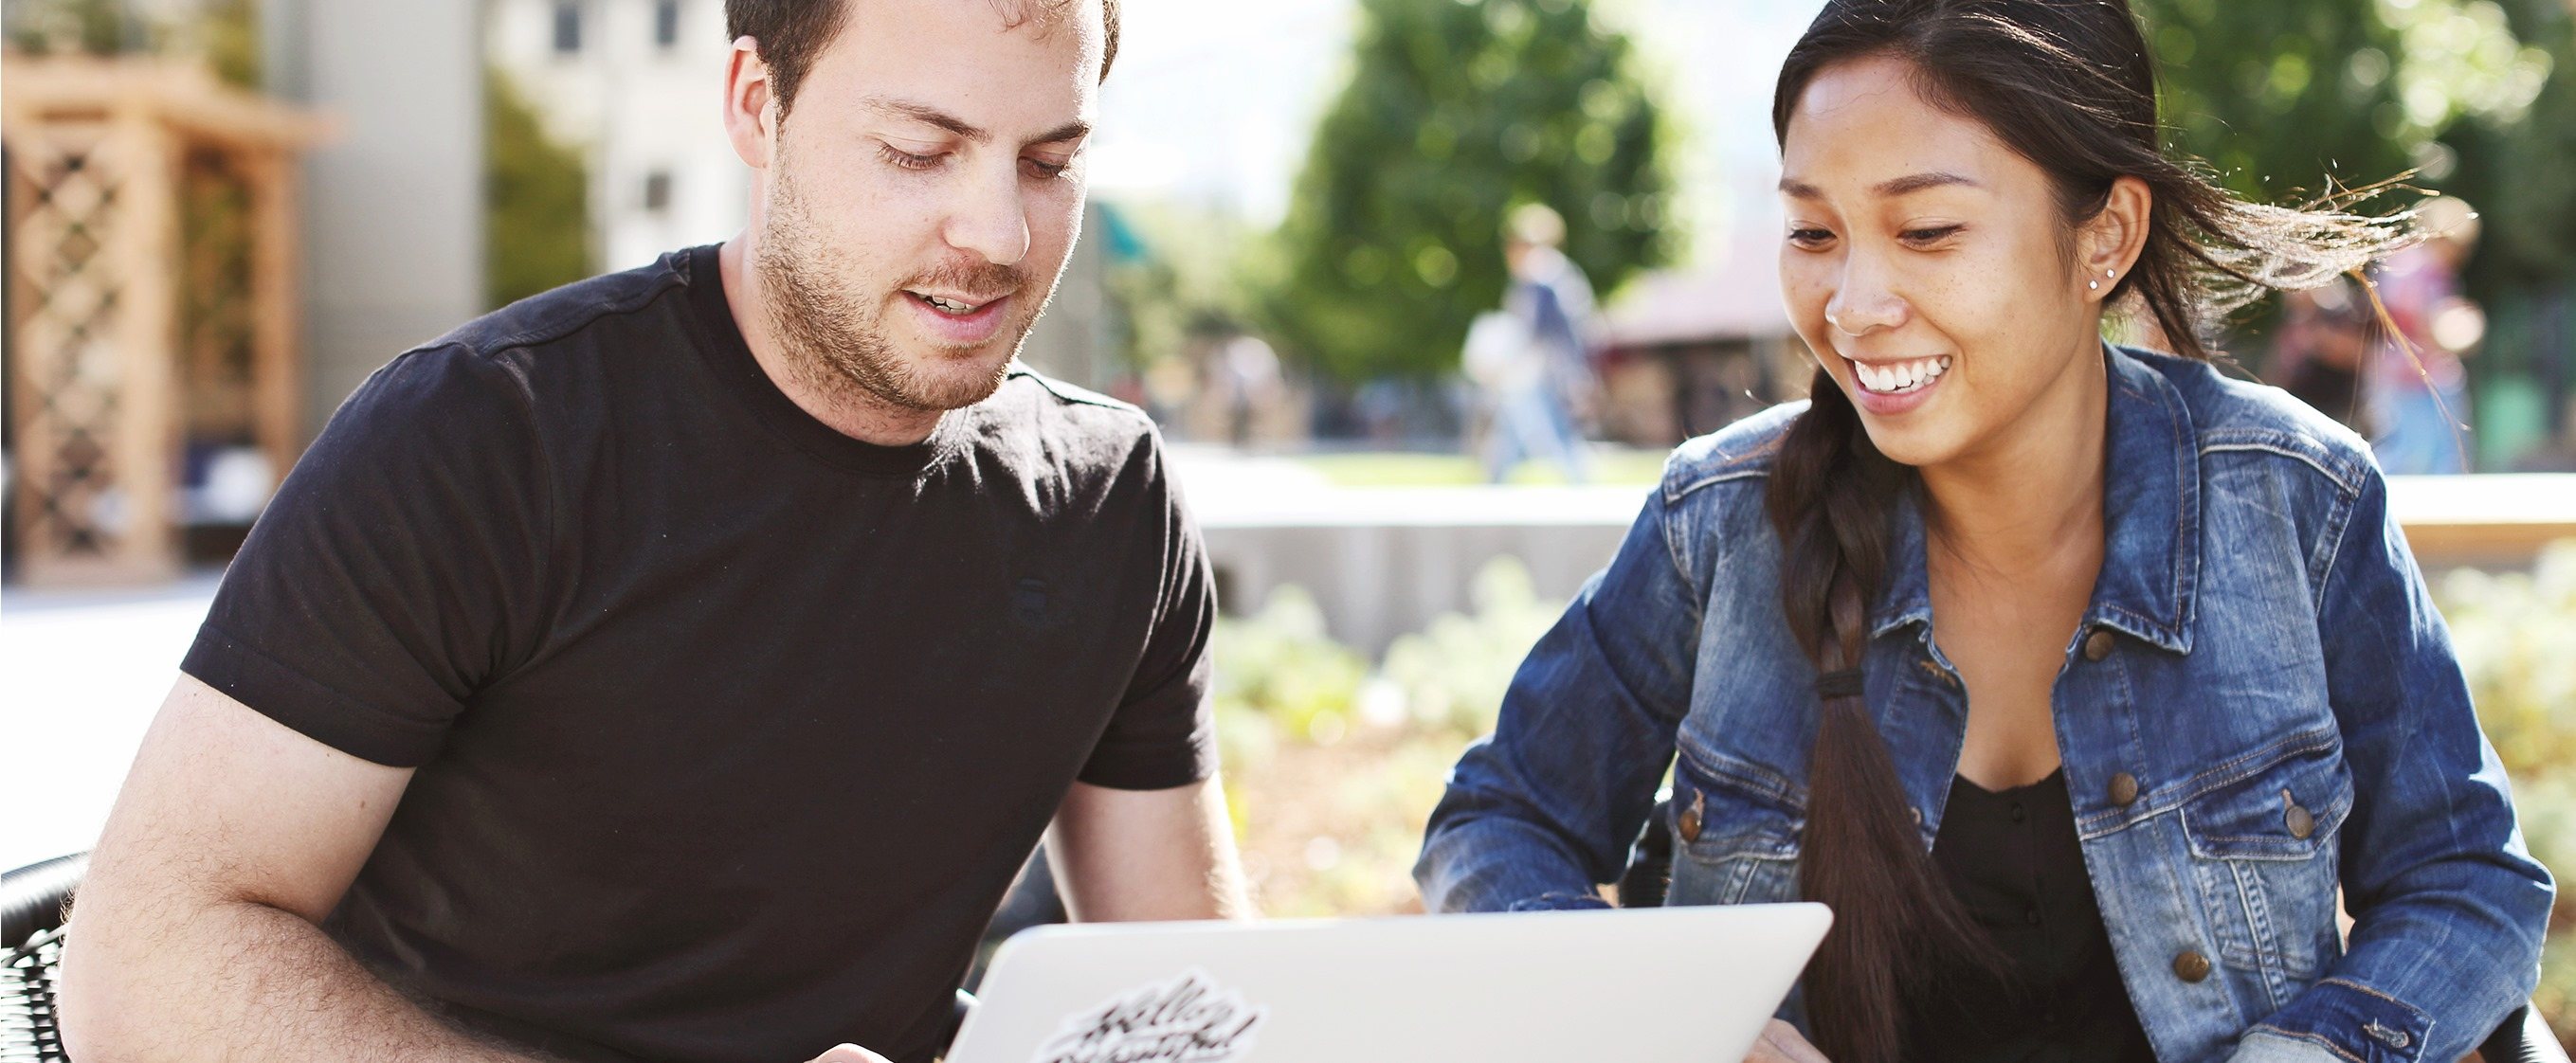no_mask: (1752, 4, 2163, 475), (717, 1, 1107, 429)
